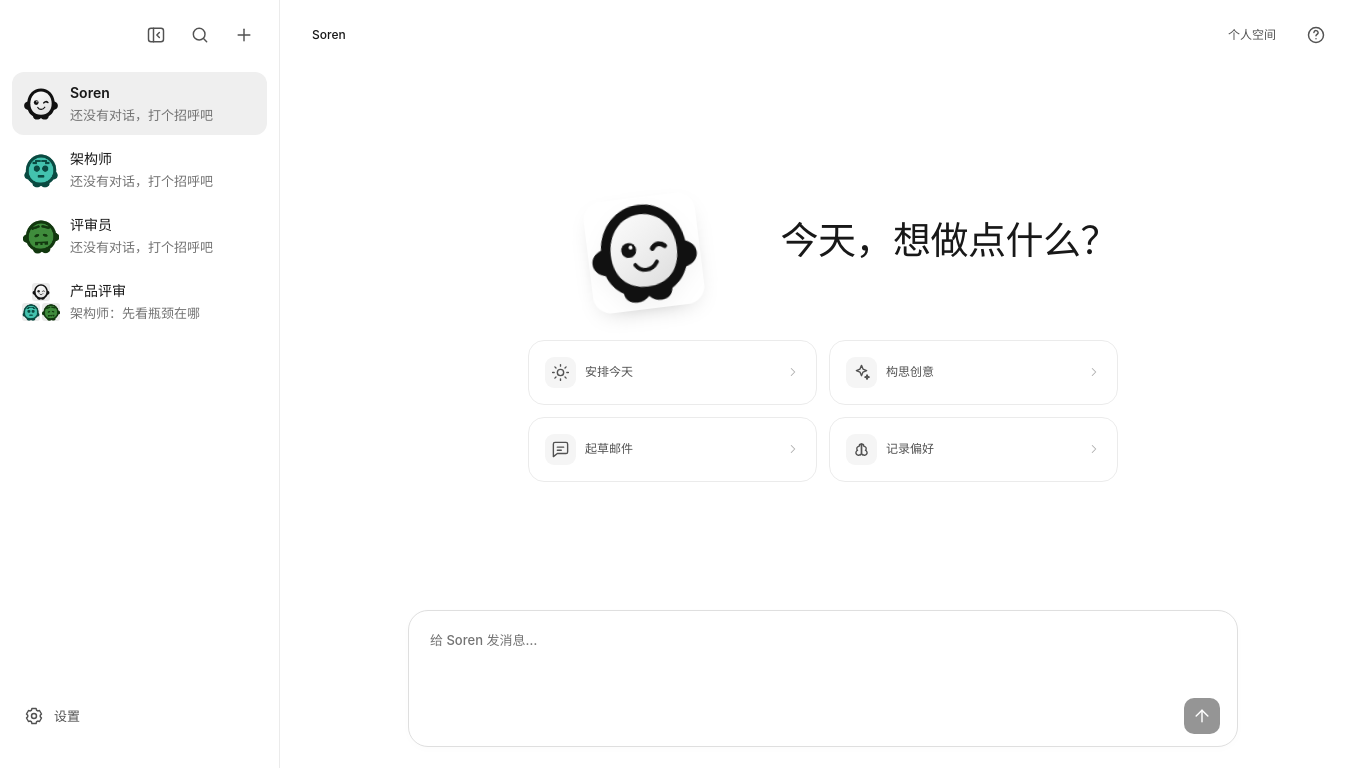
群聊状态隔离 › 群与 Bot 的输入内容互相不污染
Step 1. Click the button "产品评审 架构师：先看瓶颈在哪" → point(140, 302), box left=12, top=270, right=267, bottom=333
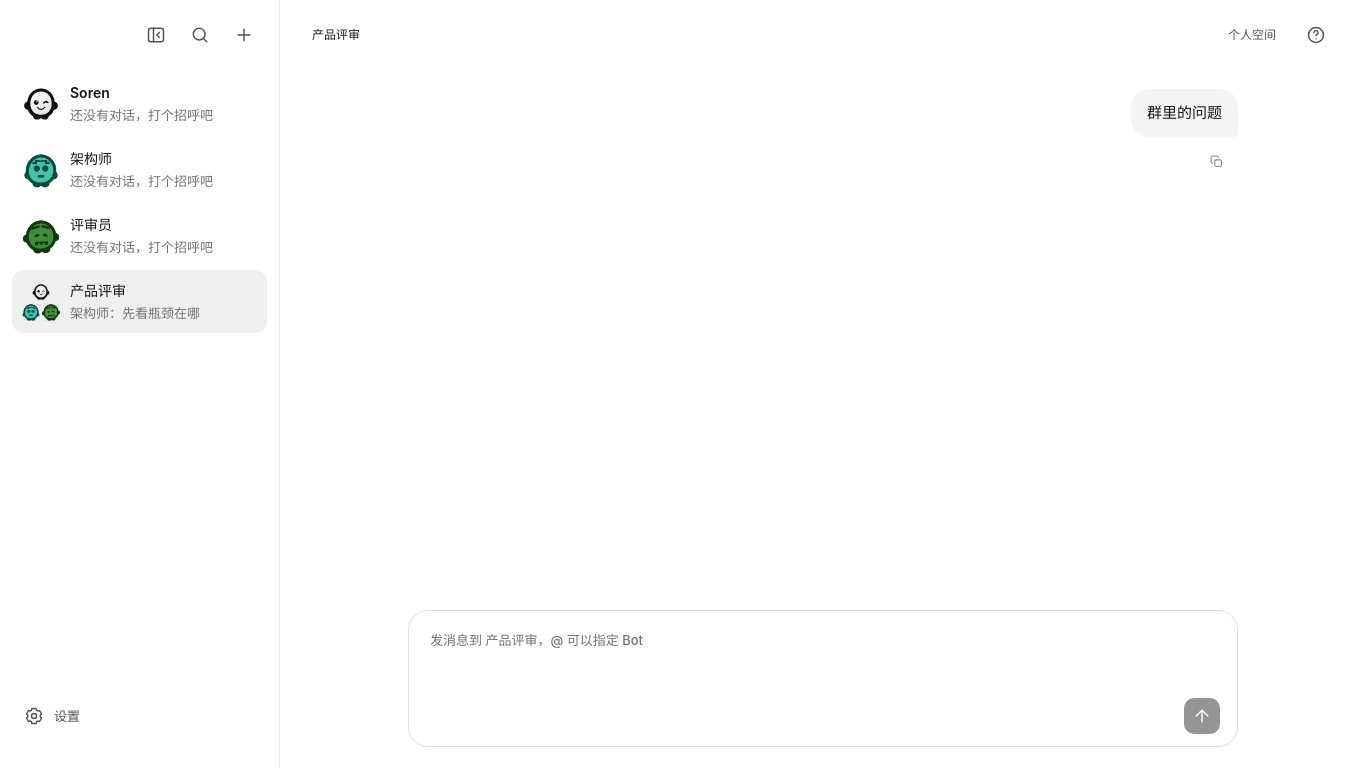
Expected: the text "群里的问题" is shown, left=1131, top=89, right=1238, bottom=137
Step 2. Type "草稿甲" into the text box named "消息输入框" → point(823, 660), box left=426, top=629, right=1220, bottom=691
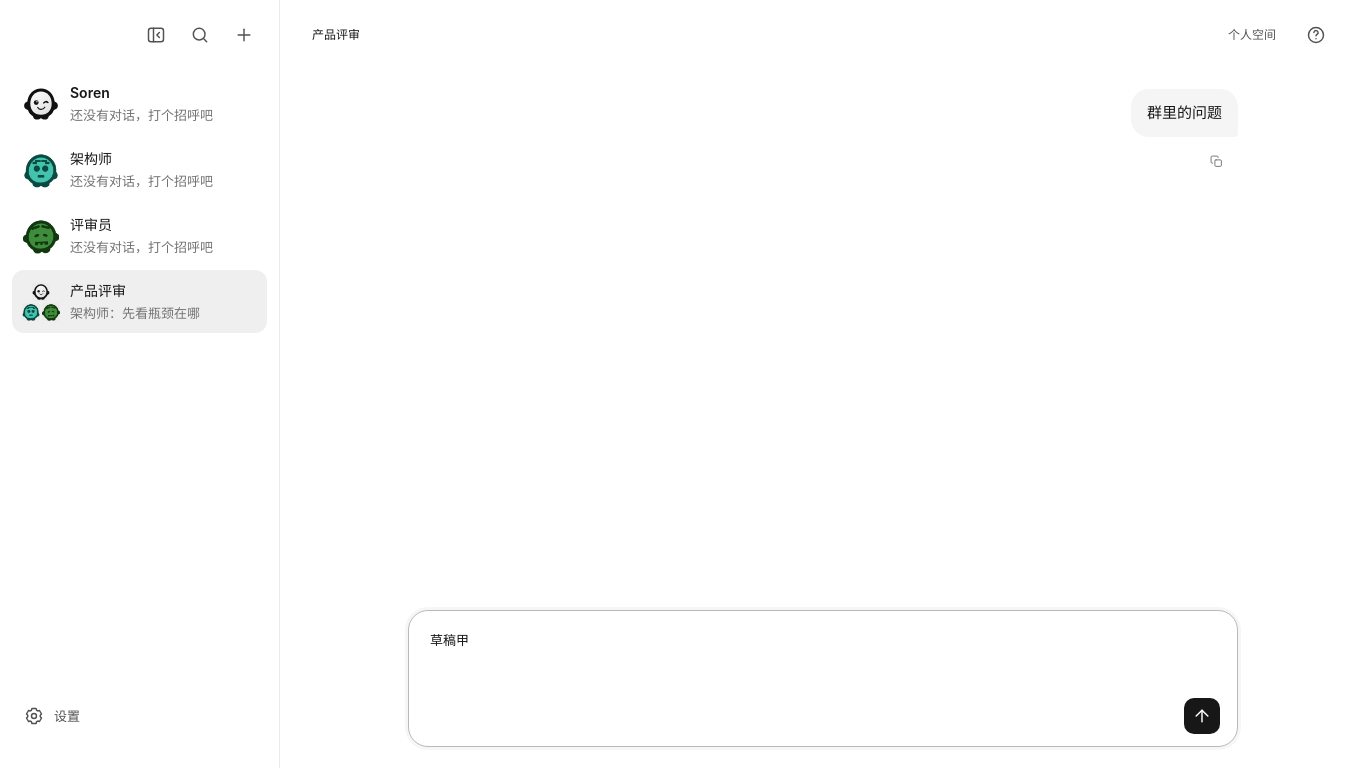
Step 3. Click the button "Soren 还没有对话，打个招呼吧" → point(140, 104), box left=12, top=72, right=267, bottom=135
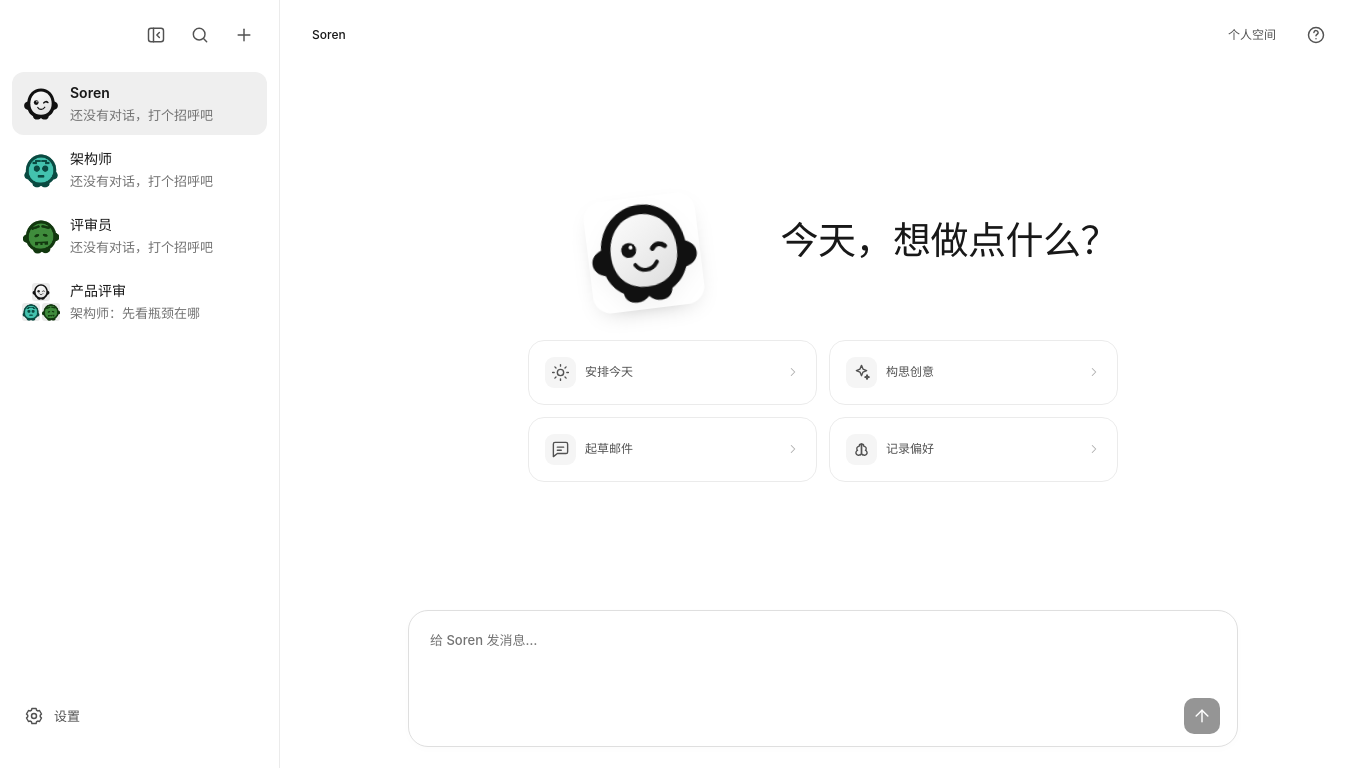
Expected: the heading "今天，想做点什么？" is shown, left=780, top=217, right=1118, bottom=263
Expected: the text box named "消息输入框" is empty, left=426, top=629, right=1220, bottom=691
Step 4. Click the button "产品评审 架构师：先看瓶颈在哪" → point(140, 302), box left=12, top=270, right=267, bottom=333
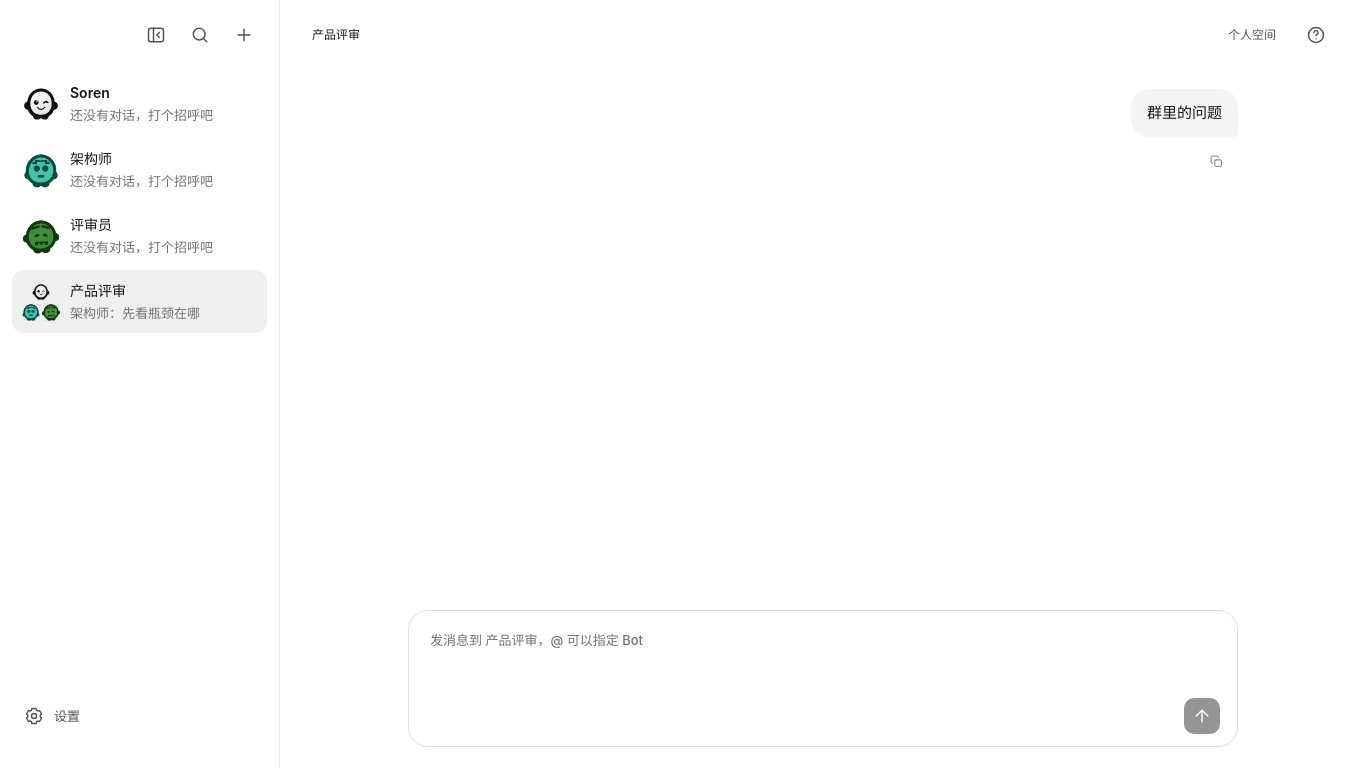
Expected: the text box named "消息输入框" is empty, left=426, top=629, right=1220, bottom=691
Expected: the text "群里的问题" is shown, left=1131, top=89, right=1238, bottom=137
